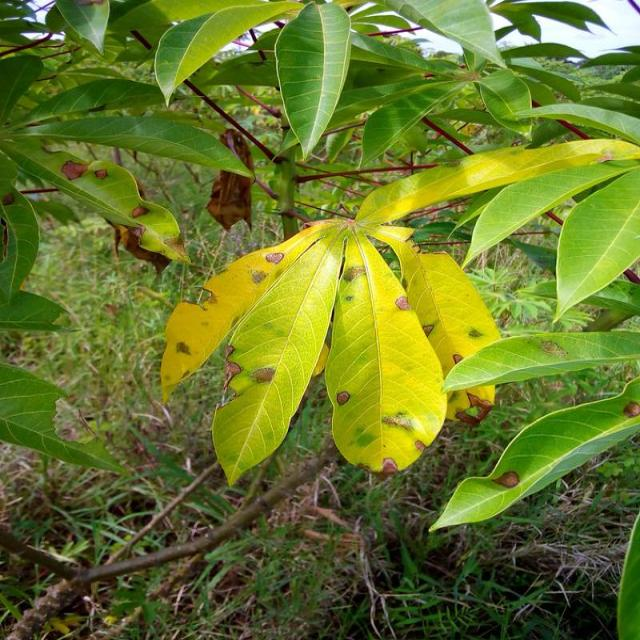cassava leaf: (159, 136, 639, 488), (211, 219, 349, 486), (429, 374, 640, 534), (325, 231, 449, 474), (274, 1, 353, 161)
